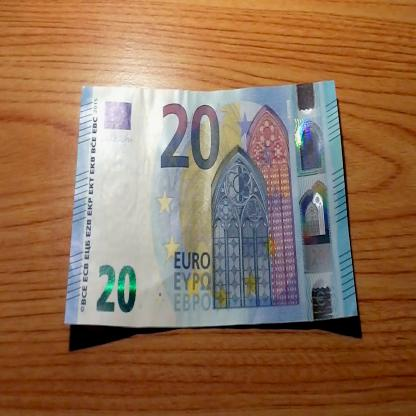euro_banknote: (62, 83, 357, 327)
